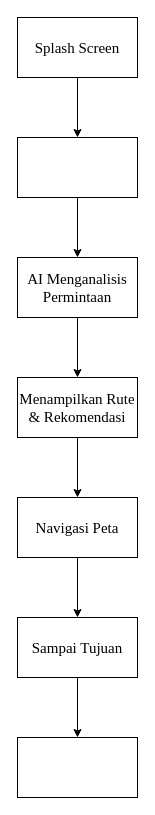
Some shapes in this 155 by 815 pixel diagram are drawn without their labels. The shapes that lost their labels are listed below. From the top down, each one's centre as x and y in pixels, then its label:
point (77, 167): Memilih Tujuan
point (77, 767): Selesai
